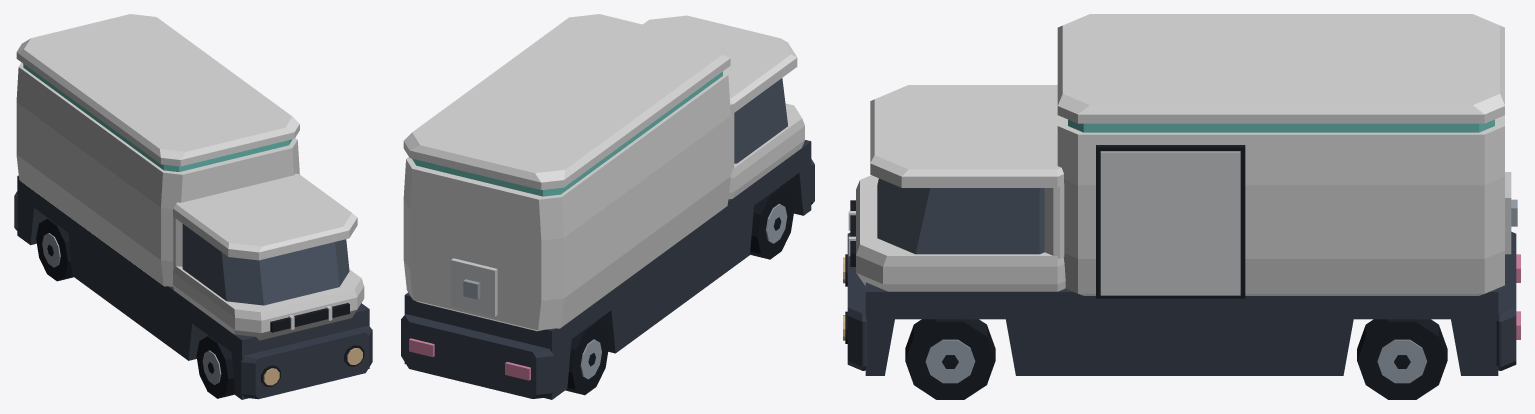
File: boxy-delivery-van-a3ceae.glb
The picture shows the model from 3 angles, left to right: view 1: azimuth 30°, elevation 25°; view 2: azimuth 150°, elevation 25°; view 3: azimuth 270°, elevation 25°; orthographic projection. The views are drawn at different scales.
Parts seen in each view (by area): view 1: boxy-delivery-van-a3ceae; view 2: boxy-delivery-van-a3ceae; view 3: boxy-delivery-van-a3ceae.
Part boxes in pixels (x1,y1,x2,y2): boxy-delivery-van-a3ceae: (14,14,372,399); boxy-delivery-van-a3ceae: (401,14,814,399); boxy-delivery-van-a3ceae: (843,14,1520,399).
Size of the model in its own units: 2.04 by 2.9 by 6.
